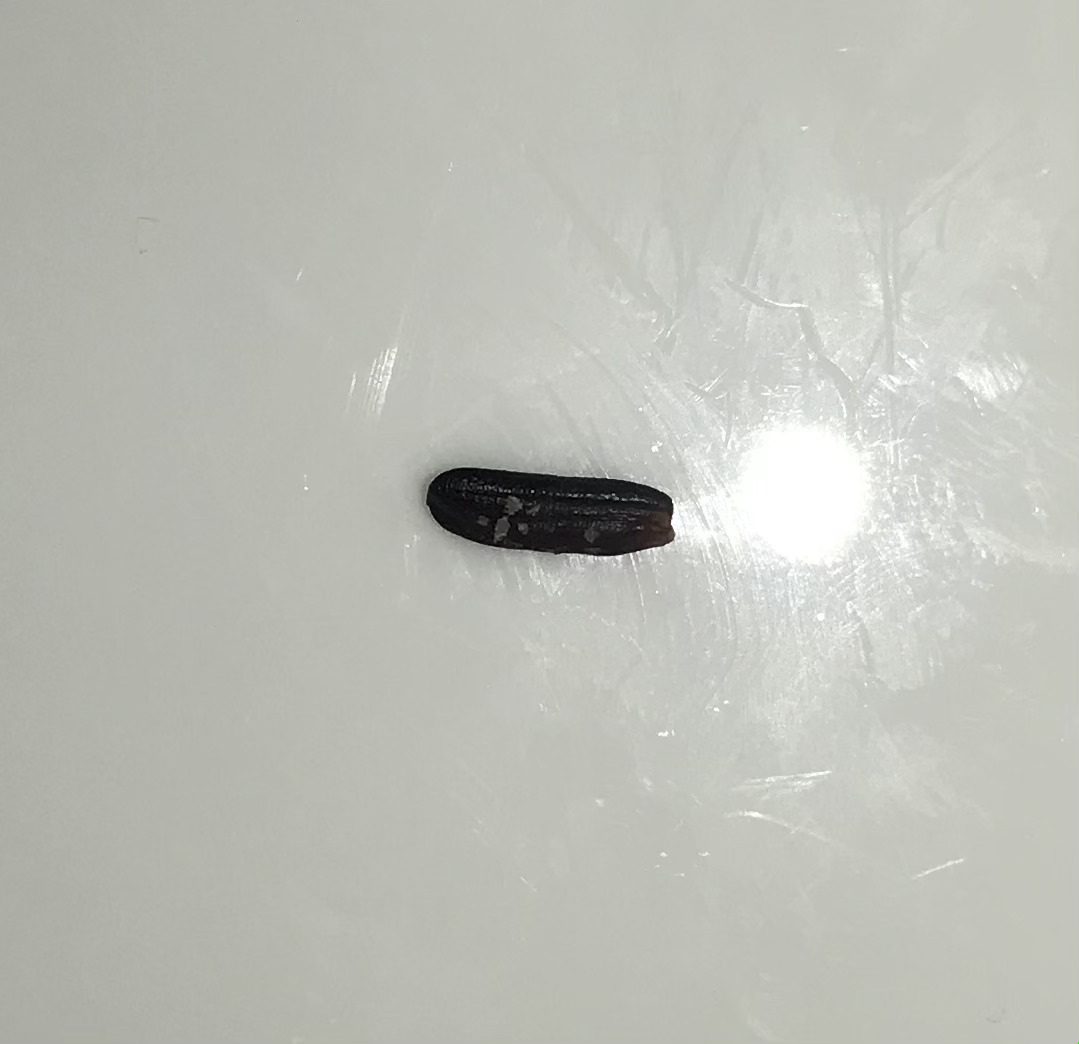Gao lut: (420, 459, 678, 574)
